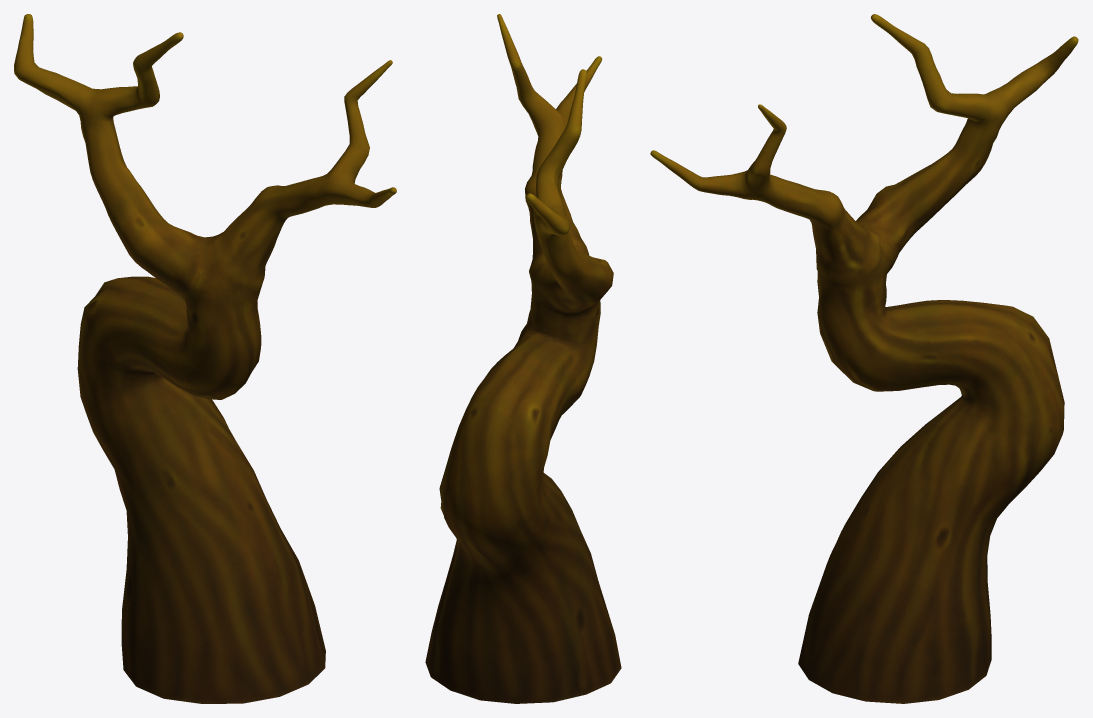
Rendered from SM_Tree_3_Trunk.fbx.
3 views of the same model, side by side, from view 1: azimuth 30°, elevation 25°; view 2: azimuth 150°, elevation 25°; view 3: azimuth 270°, elevation 25° (orthographic). The views are drawn at different scales.
Visible parts, largest first — view 1: SM_Tree_3_Trunk_LOD0; view 2: SM_Tree_3_Trunk_LOD0; view 3: SM_Tree_3_Trunk_LOD0.
Part boxes in pixels (bbox=[...]): SM_Tree_3_Trunk_LOD0: bbox=[14, 14, 396, 703]; SM_Tree_3_Trunk_LOD0: bbox=[425, 14, 621, 703]; SM_Tree_3_Trunk_LOD0: bbox=[650, 14, 1078, 703].
Size of the model in its own units: 315 by 538 by 863.
1 material, 1 textured.
